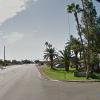Palm tree: (64, 3, 98, 77)
